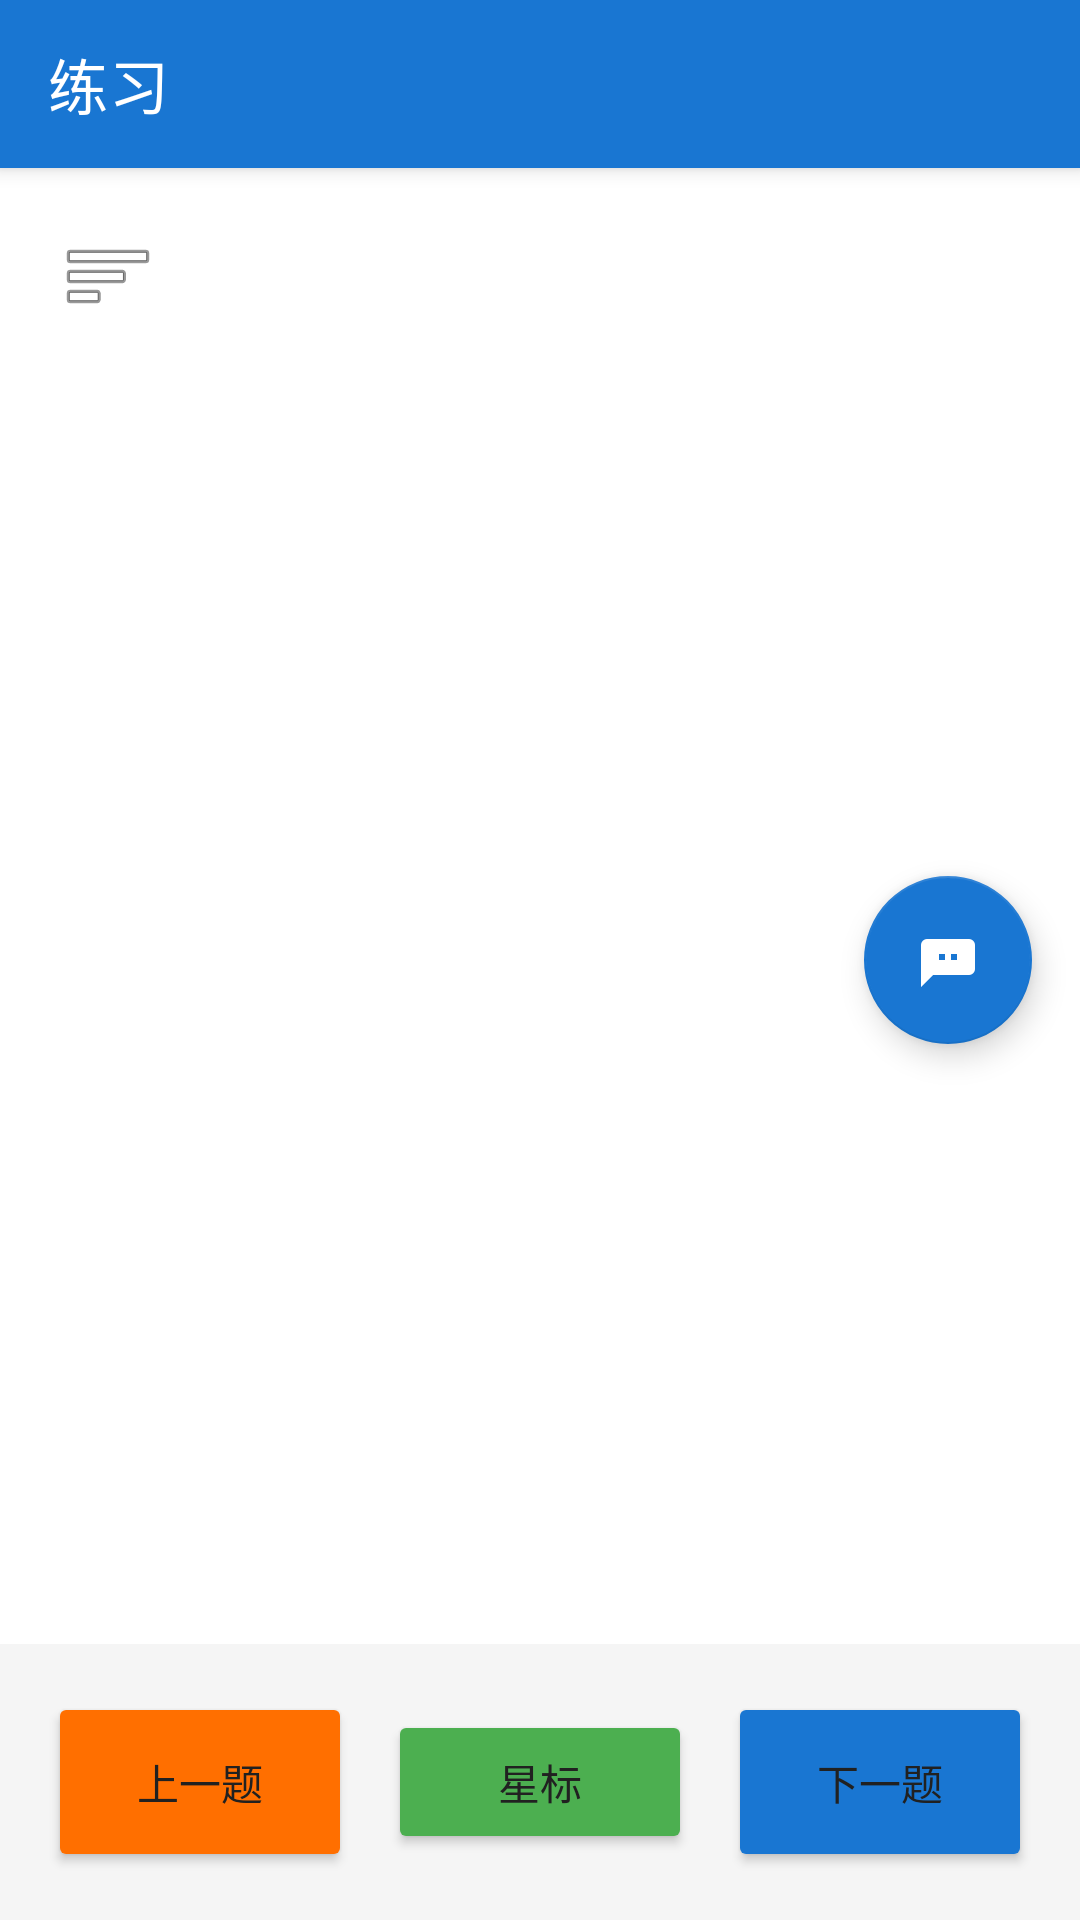

Screen size 1080 × 1920. Icon name, then its box in pixels as (x1, y1, x2, y2):
AI答疑: (864, 876, 1032, 1044)
题型导航: (67, 250, 149, 303)
